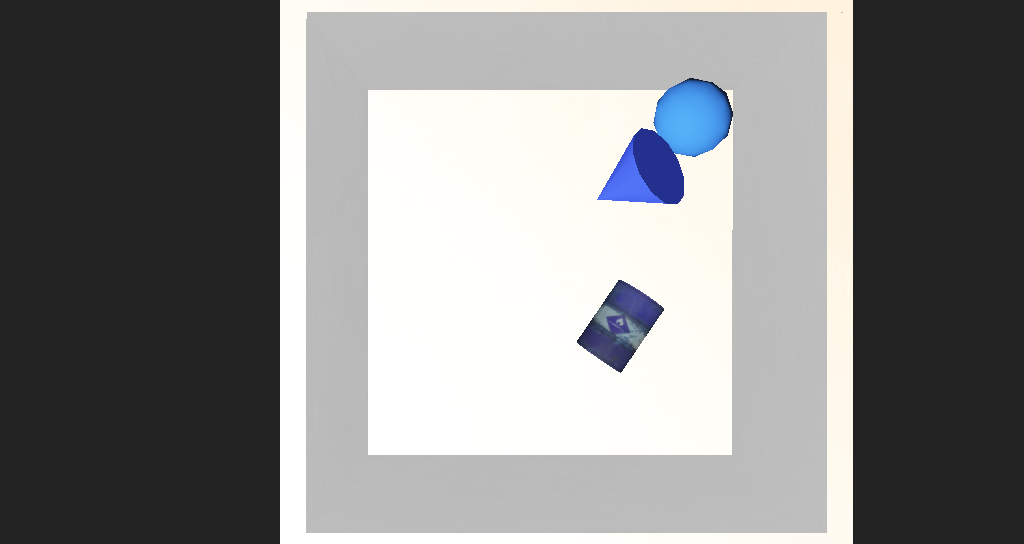cone: (529, 272, 603, 329)
cylinder: (522, 179, 623, 251)
sphere: (586, 160, 653, 203)
